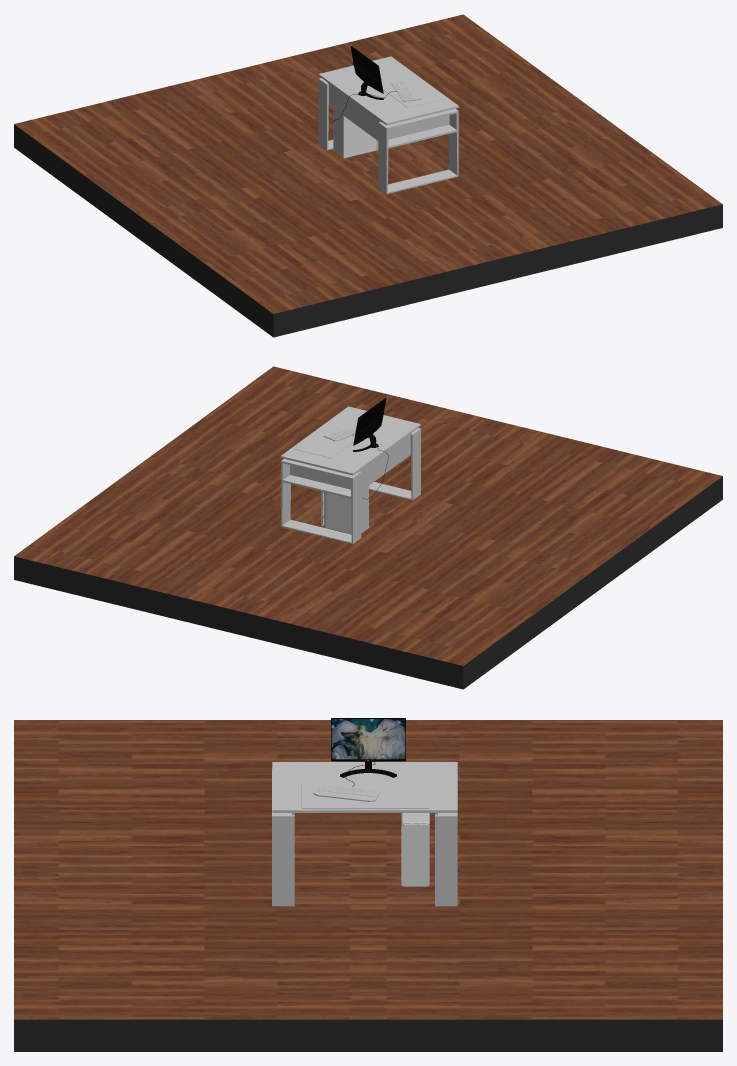
The model's file is Stol.fbx.
3 views of the same model, one above another, from view 1: azimuth 30°, elevation 25°; view 2: azimuth 150°, elevation 25°; view 3: azimuth 270°, elevation 25° (orthographic). The views are drawn at different scales.
Visible parts, largest first — view 1: Floor, Table, KeyBoardandMousePad, Computer, Monitor; view 2: Floor, Table, KeyBoardandMousePad, Computer, Monitor; view 3: Floor, Table, Monitor, KeyBoardandMousePad, Computer.
Part boxes in pixels (x1=…): Floor: x1=14, y1=14, x2=722, y2=337; Table: x1=318, y1=56, x2=458, y2=193; KeyBoardandMousePad: x1=379, y1=64, x2=444, y2=107; Computer: x1=333, y1=108, x2=378, y2=158; Monitor: x1=333, y1=46, x2=396, y2=121; Floor: x1=14, y1=366, x2=722, y2=689; Table: x1=280, y1=406, x2=420, y2=544; KeyBoardandMousePad: x1=294, y1=414, x2=357, y2=458; Computer: x1=321, y1=486, x2=368, y2=533; Monitor: x1=352, y1=398, x2=388, y2=499; Floor: x1=14, y1=720, x2=722, y2=1051; Table: x1=272, y1=762, x2=457, y2=906; Monitor: x1=331, y1=718, x2=405, y2=786; KeyBoardandMousePad: x1=301, y1=783, x2=429, y2=808; Computer: x1=401, y1=813, x2=429, y2=886.
Size of the model in its own units: 500 by 141 by 500.
